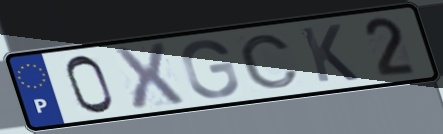0: (63, 53, 116, 116)
2: (364, 15, 418, 78)
C: (237, 33, 302, 91)
G: (179, 37, 242, 100)
K: (297, 22, 362, 85)
X: (109, 41, 188, 114)
